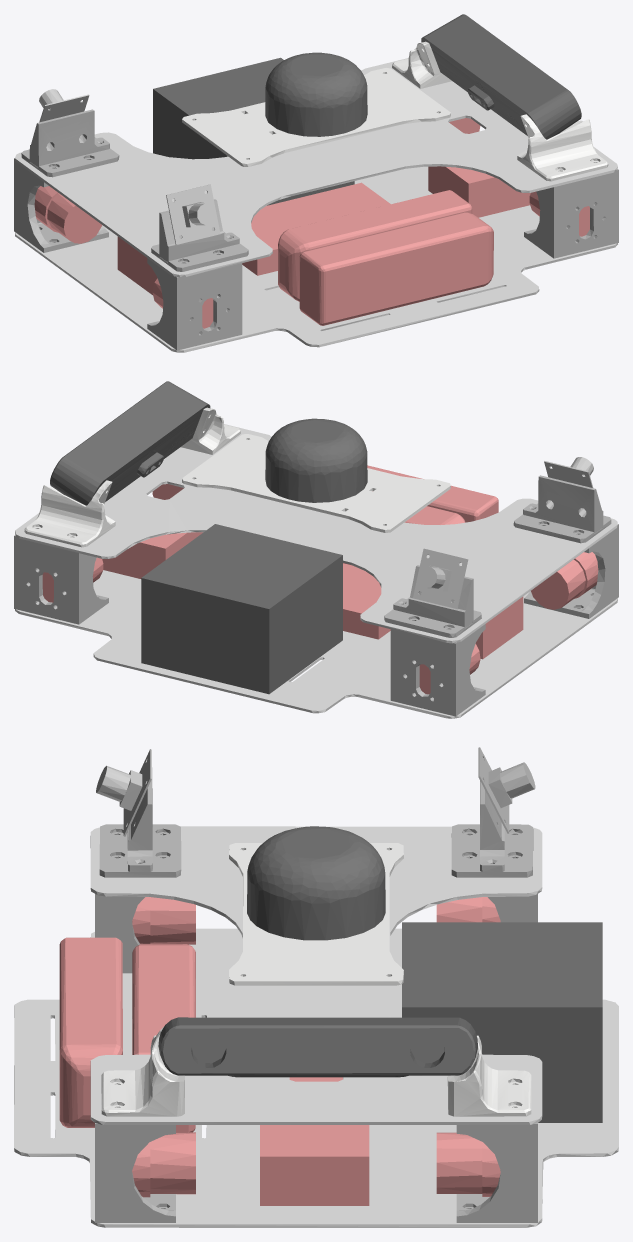
Rendered from seppia.dae.
3 views of the same model, one above another, from view 1: azimuth 30°, elevation 25°; view 2: azimuth 150°, elevation 25°; view 3: azimuth 270°, elevation 25° (orthographic). The views are drawn at different scales.
Visible parts, largest first — view 1: base; view 2: base; view 3: base.
Part boxes in pixels (x1,y1,x2,y2): base: (14,14,618,352); base: (14,381,618,718); base: (14,747,618,1227).
Bounding box in the file's own units: 0.3839 × 0.3318 × 0.143.
